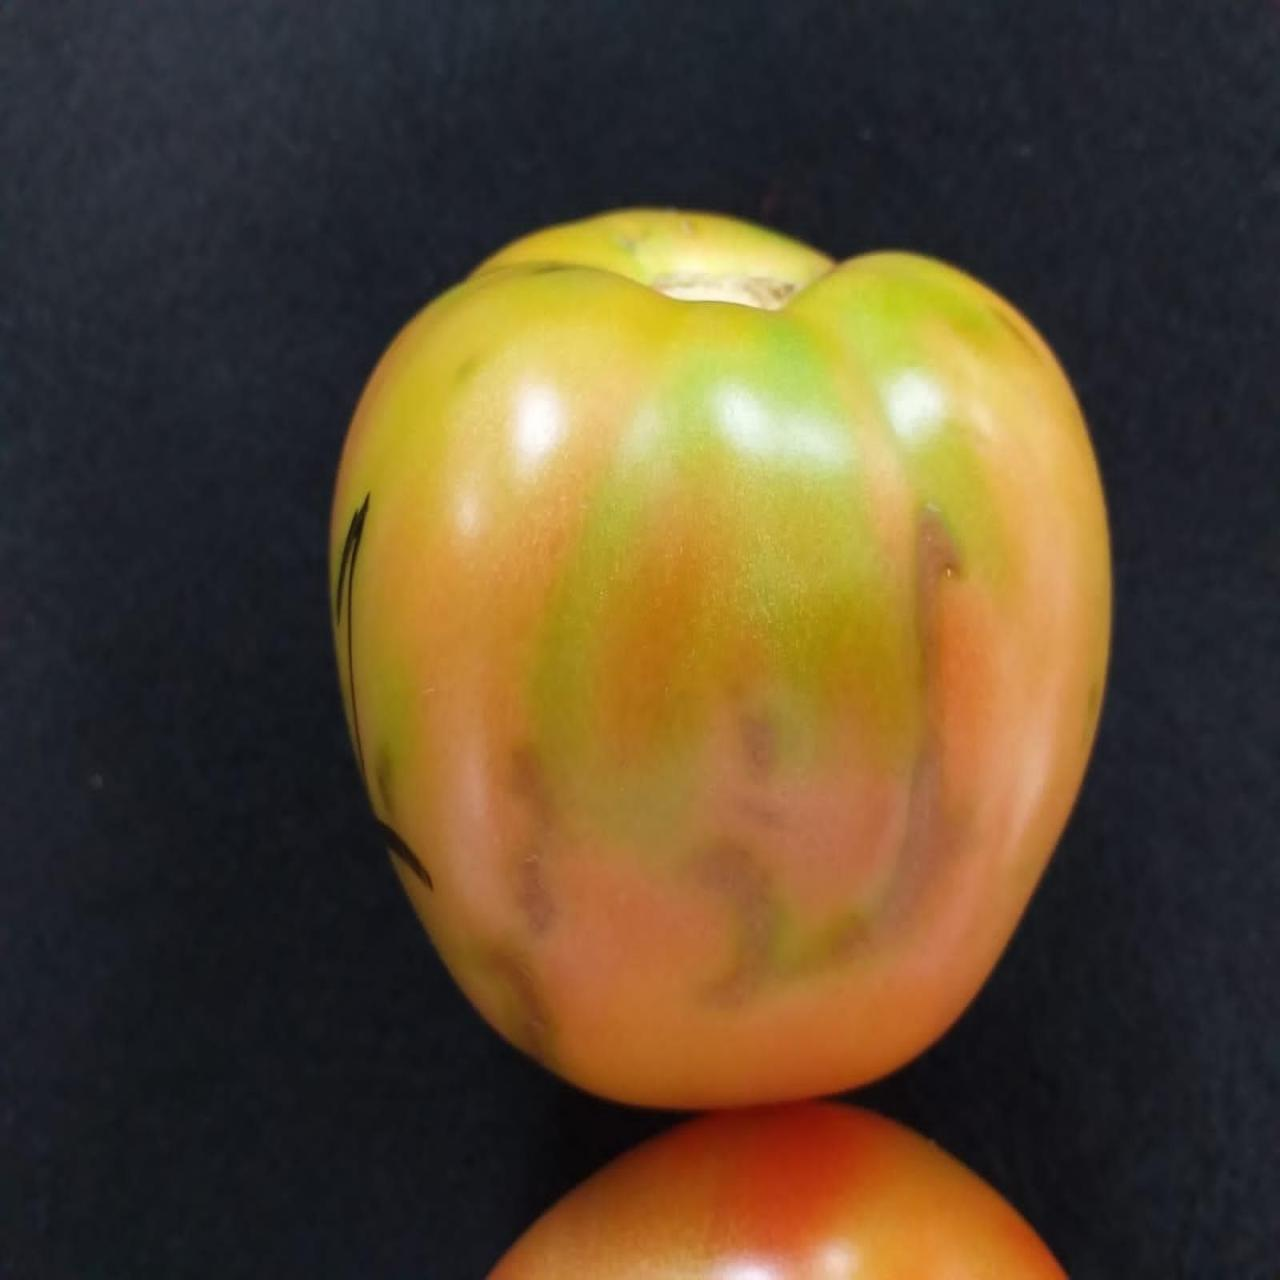T_F_R: (331, 209, 1114, 1109)
